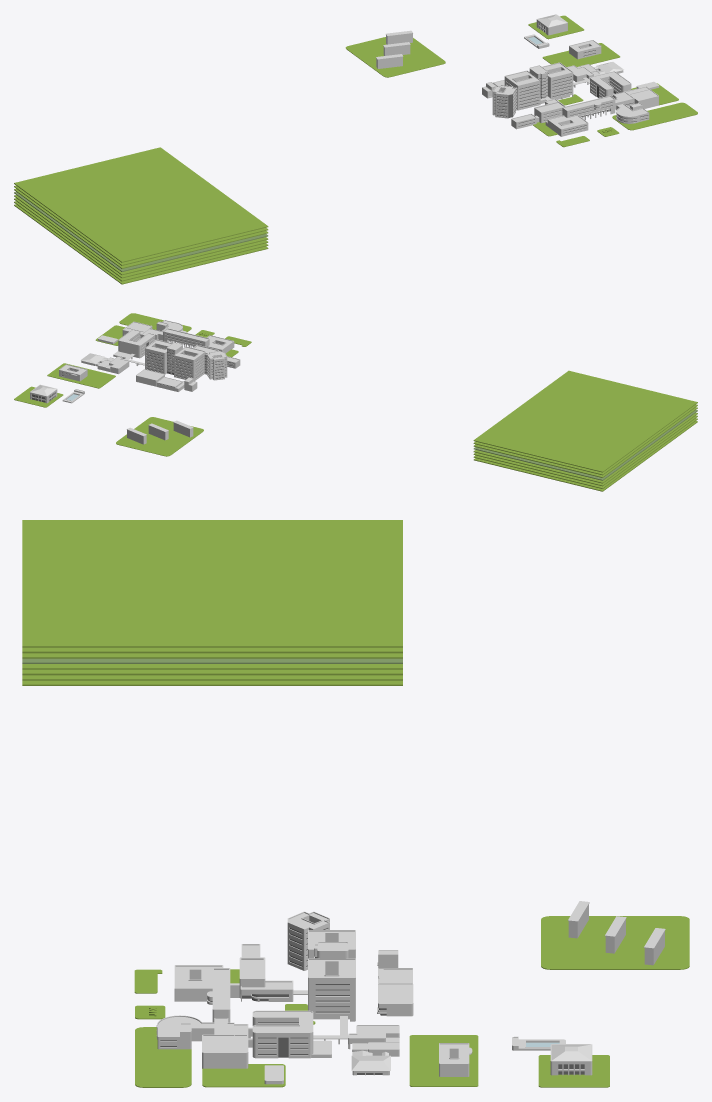
The model's file is kyutech_map.glb.
The picture shows the model from 3 angles, top to bottom: view 1: azimuth 30°, elevation 25°; view 2: azimuth 150°, elevation 25°; view 3: azimuth 270°, elevation 25°; orthographic projection. The views are drawn at different scales.
Visible parts, largest first — view 1: 平面.014, 平面.013, 立方体.033, 平面.027, 平面.017, 平面.026, 平面.015, 平面.025, 平面.024, 平面.019, 平面.011, 立方体.081 (+9 smaller); view 2: 平面.014, 平面.013, 立方体.033, 平面.027, 平面.026, 平面.015, 平面.025, 平面.017, 平面.024, 平面.019, 立方体.008, 立方体.081 (+10 smaller); view 3: 平面.014, 平面.013, 立方体.008, 立方体.081, 平面.011, 平面.026, 平面.015, 平面.016, 平面.024, 平面.025, 平面.027, 平面.019 (+12 smaller).
Boxes of the visible parts, x1,y1,x2,y2 form: 平面.014: (14,147,268,262); 平面.013: (345,37,445,77); 立方体.033: (504,70,540,110); 平面.027: (14,195,268,275); 平面.017: (14,188,268,268); 平面.026: (14,198,268,278); 平面.015: (14,185,268,265); 平面.025: (14,201,268,281); 平面.024: (14,204,268,284); 平面.019: (14,192,268,271); 平面.011: (612,102,697,130); 立方体.081: (542,62,573,99); 平面.014: (473,370,697,472); 平面.013: (116,417,203,456); 立方体.033: (173,346,205,381); 平面.027: (473,413,697,483); 平面.026: (473,415,697,486); 平面.015: (473,404,697,475); 平面.025: (473,418,697,488); 平面.017: (473,407,697,477); 平面.024: (473,421,697,491); 平面.019: (473,410,697,480); 立方体.008: (118,329,154,358); 立方体.081: (145,339,172,374); 平面.014: (22,520,402,647); 平面.013: (541,916,689,969); 立方体.008: (252,1010,313,1058); 立方体.081: (308,958,355,1021); 平面.011: (135,1027,191,1087); 平面.026: (22,669,402,675); 平面.015: (22,647,402,653); 平面.016: (409,1035,478,1086); 平面.024: (22,680,402,685); 平面.025: (22,675,402,680); 平面.027: (22,664,402,669); 平面.019: (22,658,402,663).
Size of the model in its own units: 826 by 37.5 by 444.
